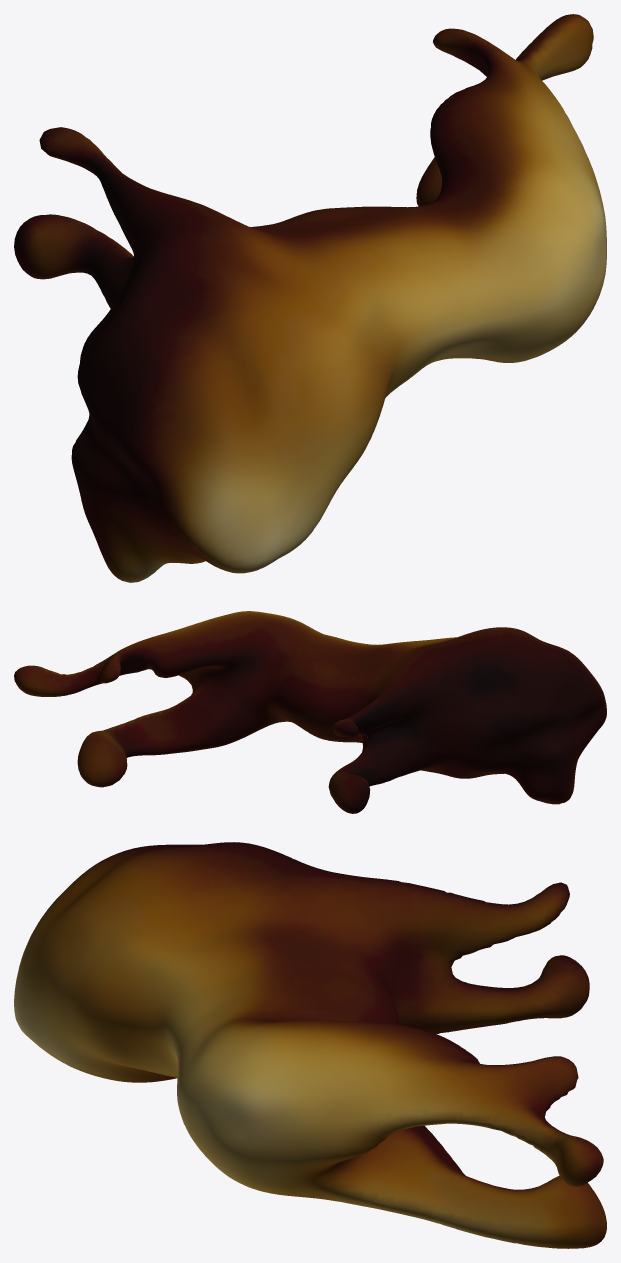
File: lion.glb
3 views of the same model, one above another, from view 1: azimuth 30°, elevation 25°; view 2: azimuth 150°, elevation 25°; view 3: azimuth 270°, elevation 25° (orthographic). The views are drawn at different scales.
Size of the model in its own units: 0.9989 by 0.3682 by 0.7772.
